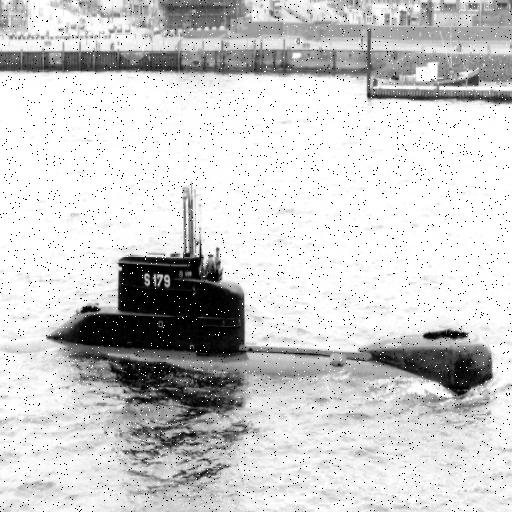submarine: (2, 175, 495, 392)
